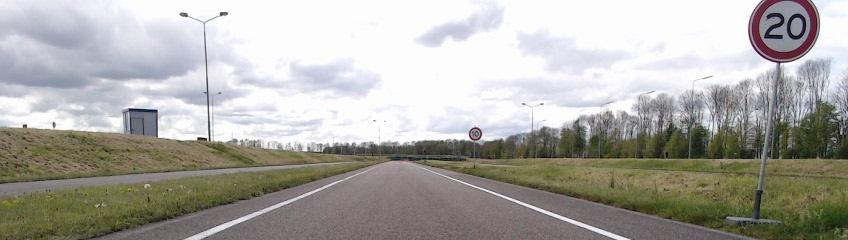Speed-limit-10km-h-: (468, 128, 482, 141)
Speed-limit-20km-h-: (748, 0, 820, 62)
